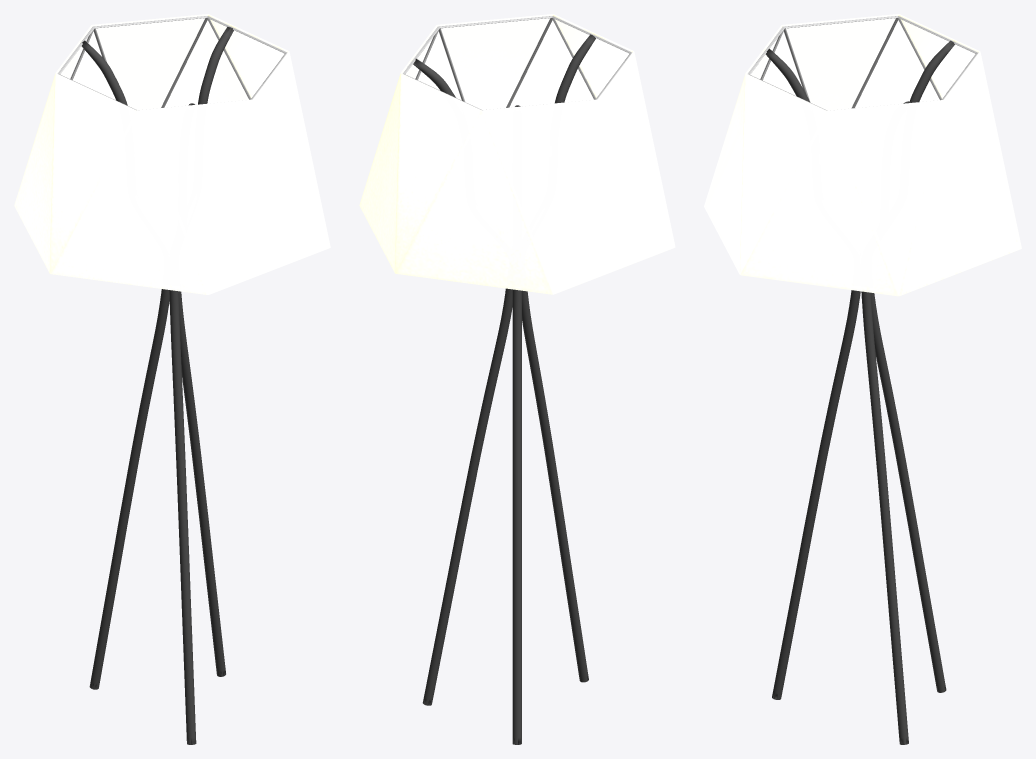
File: Lamp .glb
3 views of the same model, side by side, from view 1: azimuth 30°, elevation 25°; view 2: azimuth 150°, elevation 25°; view 3: azimuth 270°, elevation 25° (orthographic).
Visible parts, largest first — view 1: Lamp; view 2: Lamp; view 3: Lamp.
Part boxes in pixels (left/top/right/bottom): Lamp: left=14, top=14, right=330, bottom=744; Lamp: left=359, top=14, right=675, bottom=744; Lamp: left=704, top=14, right=1021, bottom=744.
Size of the model in its own units: 0.6797 by 1.49 by 0.664.
7 materials, 1 textured.
